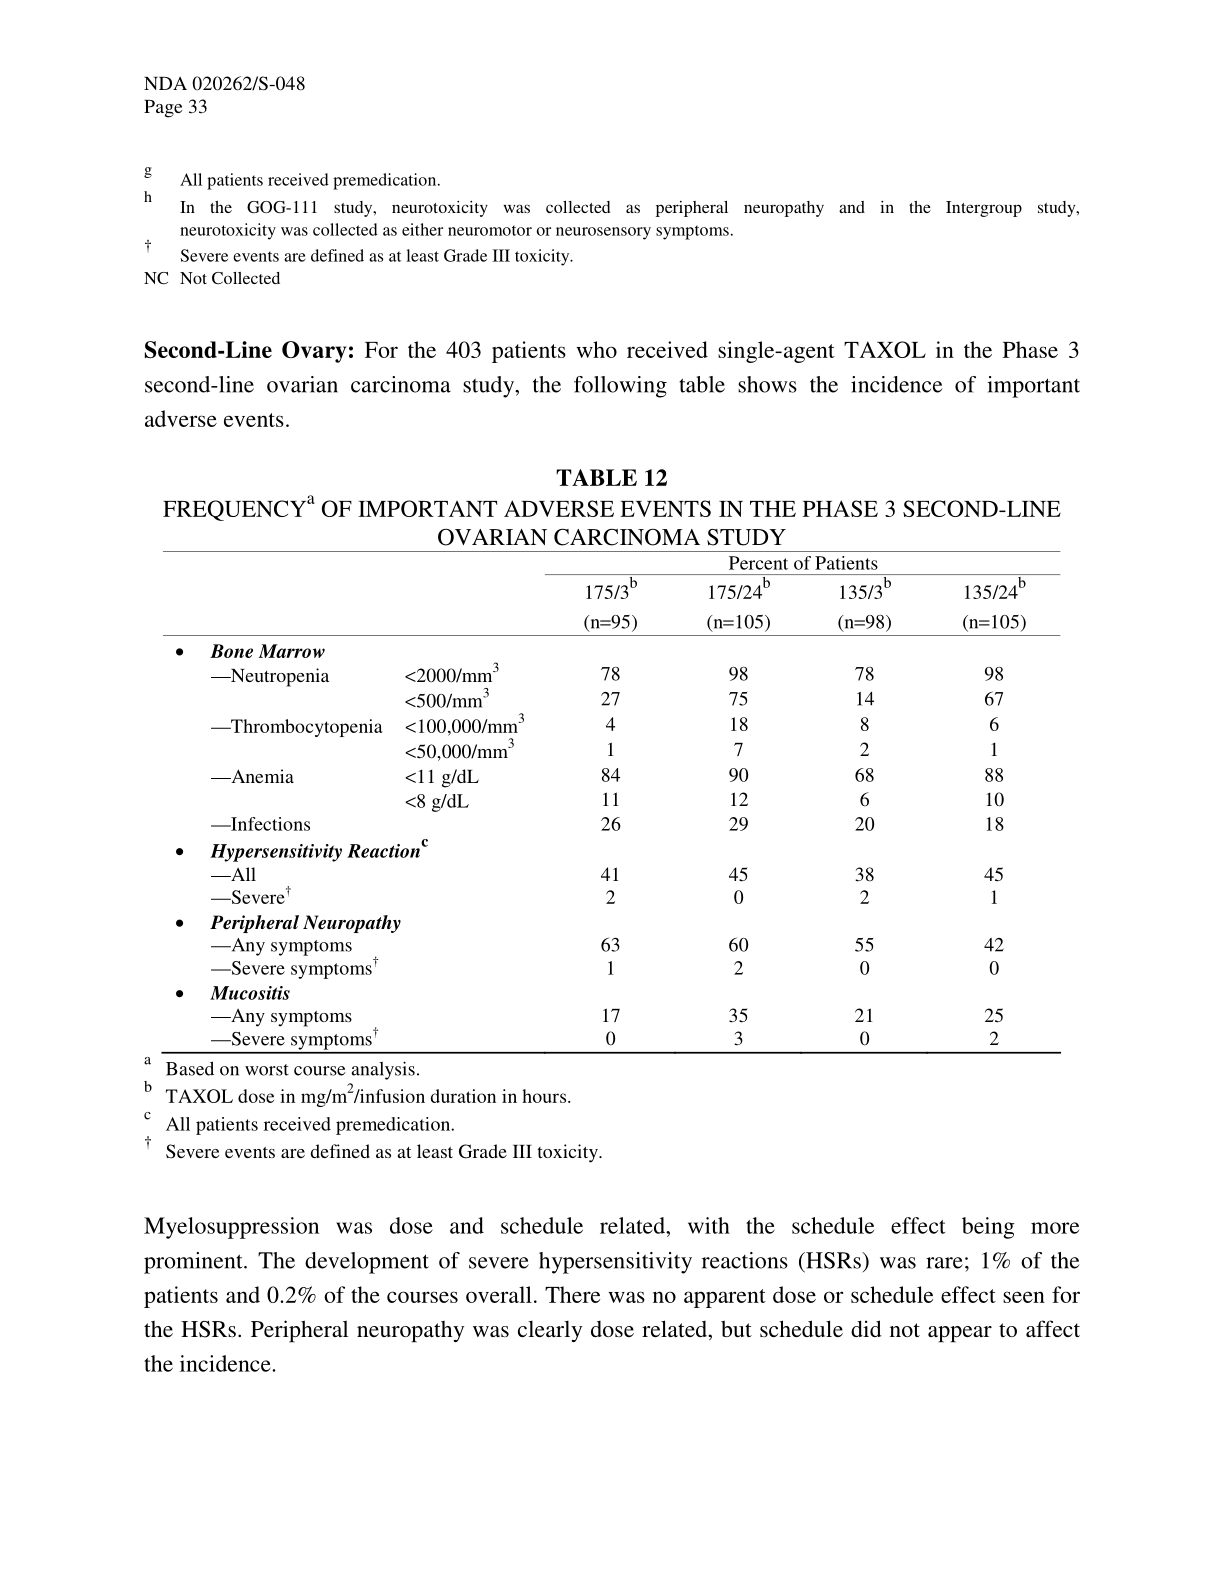partial_lined_merged_cells: (161, 548, 1065, 1056)
